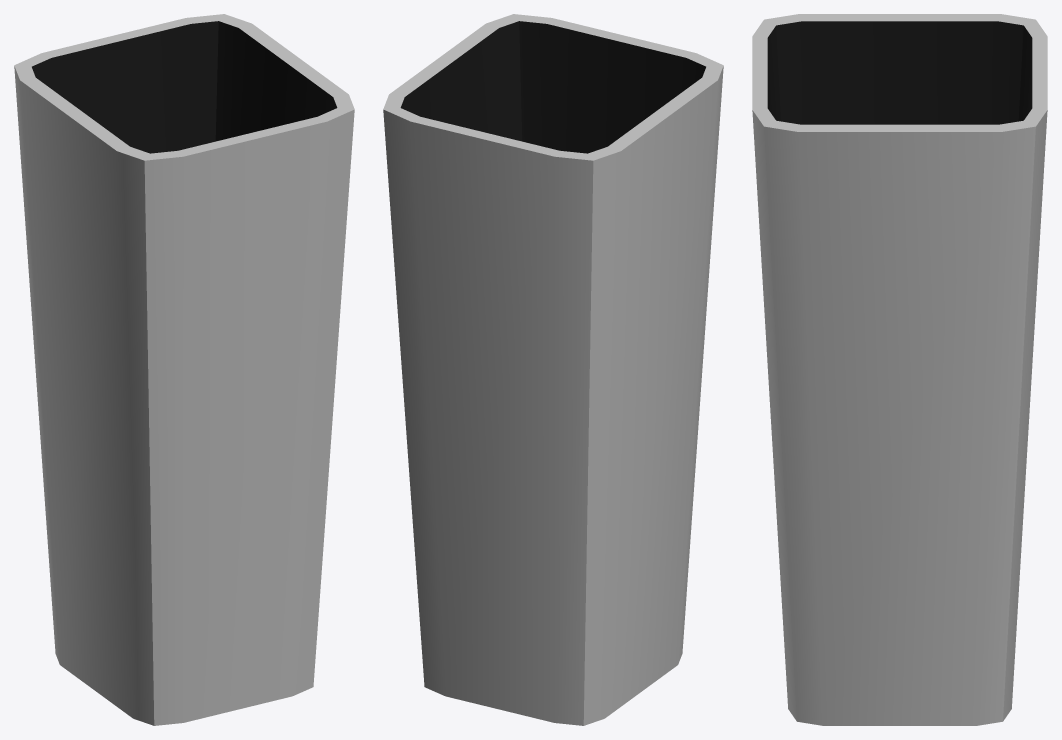
The model's file is Vase_02_F.FBX.
The picture shows the model from 3 angles, left to right: view 1: azimuth 30°, elevation 25°; view 2: azimuth 150°, elevation 25°; view 3: azimuth 270°, elevation 25°; orthographic projection. The views are drawn at different scales.
Parts seen in each view (by area): view 1: Vase_02; view 2: Vase_02; view 3: Vase_02.
Boxes of the visible parts, <box> form: Vase_02: <box>14,14,354,725</box>; Vase_02: <box>383,14,723,725</box>; Vase_02: <box>752,14,1047,725</box>.
Bounding box in the file's own units: 37.5 × 90 × 39.6.
